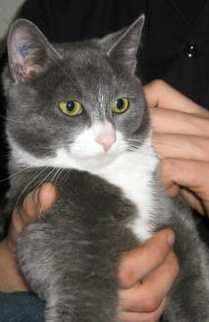Cat: (0, 16, 172, 321)
